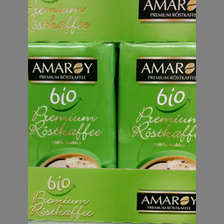coffee: (29, 42, 116, 168), (117, 42, 195, 169)
